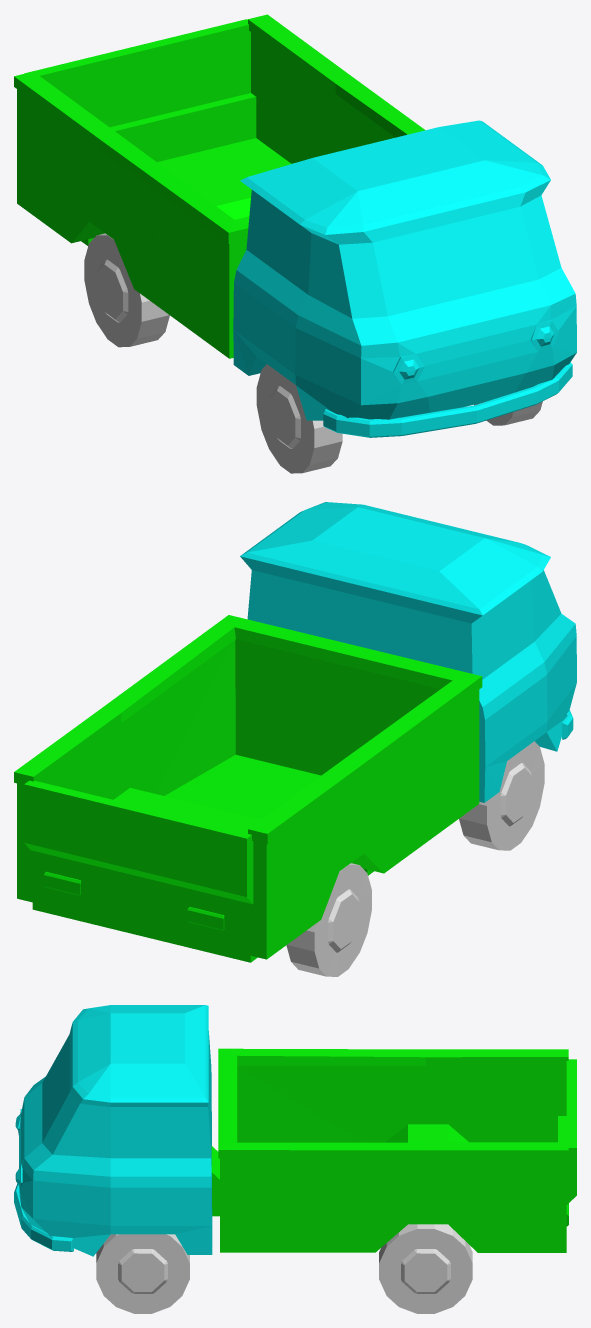
Rendered from Camion.fbx.
3 renders of one model, top to bottom at view 1: azimuth 30°, elevation 25°; view 2: azimuth 150°, elevation 25°; view 3: azimuth 270°, elevation 25°, orthographic. The views are drawn at different scales.
Visible parts, largest first — view 1: Cabina, Trailer, Puerta, Rueda_Trasera_2, Rueda_Delantera_2, Parachoques, Rueda_Delantera_1; view 2: Trailer, Cabina, Puerta, Rueda_Trasera_2, Rueda_Delantera_2, Faro_Trasero_2, Faro_Trasero; view 3: Trailer, Cabina, Rueda_Trasera_1, Rueda_Delantera_1, Puerta, Parachoques.
Boxes of the visible parts, x1,y1,x2,y2 form: Cabina: (233, 120, 576, 420); Trailer: (14, 14, 425, 358); Puerta: (24, 19, 250, 127); Rueda_Trasera_2: (84, 233, 169, 347); Rueda_Delantera_2: (256, 364, 342, 473); Parachoques: (323, 362, 572, 437); Rueda_Delantera_1: (474, 401, 542, 425); Trailer: (14, 615, 482, 962); Cabina: (240, 502, 576, 802); Puerta: (24, 780, 253, 904); Rueda_Trasera_2: (286, 863, 371, 976); Rueda_Delantera_2: (459, 741, 544, 850); Faro_Trasero_2: (187, 907, 224, 930); Faro_Trasero: (43, 872, 80, 895); Trailer: (211, 1048, 568, 1252); Cabina: (15, 1005, 212, 1256); Rueda_Trasera_1: (379, 1224, 472, 1313); Rueda_Delantera_1: (96, 1234, 189, 1313); Puerta: (566, 1059, 576, 1204); Parachoques: (14, 1183, 73, 1251).
Size of the model in its own units: 1.93 by 2.05 by 4.54.
